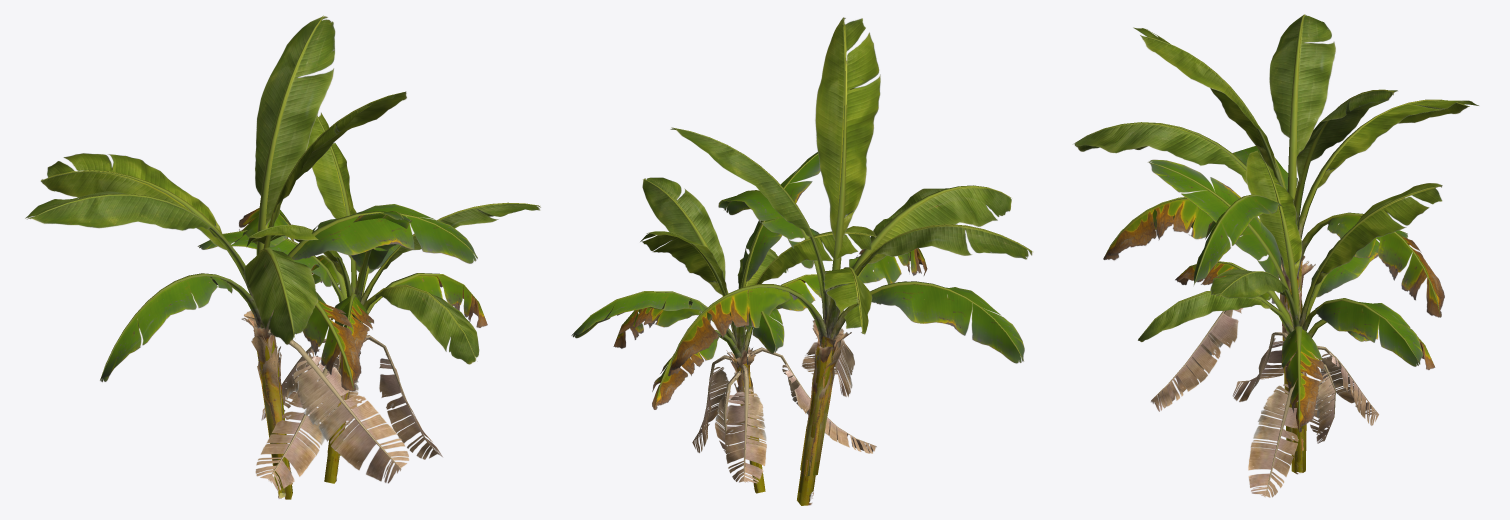
The model's file is banana_detailed.glb.
The picture shows the model from 3 angles, left to right: view 1: azimuth 30°, elevation 25°; view 2: azimuth 150°, elevation 25°; view 3: azimuth 270°, elevation 25°; orthographic projection. The views are drawn at different scales.
Visible parts, largest first — view 1: Banana_Plant_01_LOD0; view 2: Banana_Plant_01_LOD0; view 3: Banana_Plant_01_LOD0.
Boxes of the visible parts, x1,y1,x2,y2 form: Banana_Plant_01_LOD0: (25, 15, 540, 499); Banana_Plant_01_LOD0: (571, 17, 1032, 505); Banana_Plant_01_LOD0: (1074, 14, 1478, 497).
Size of the model in its own units: 3.86 by 3.6 by 3.16.
1 material, 1 textured.
